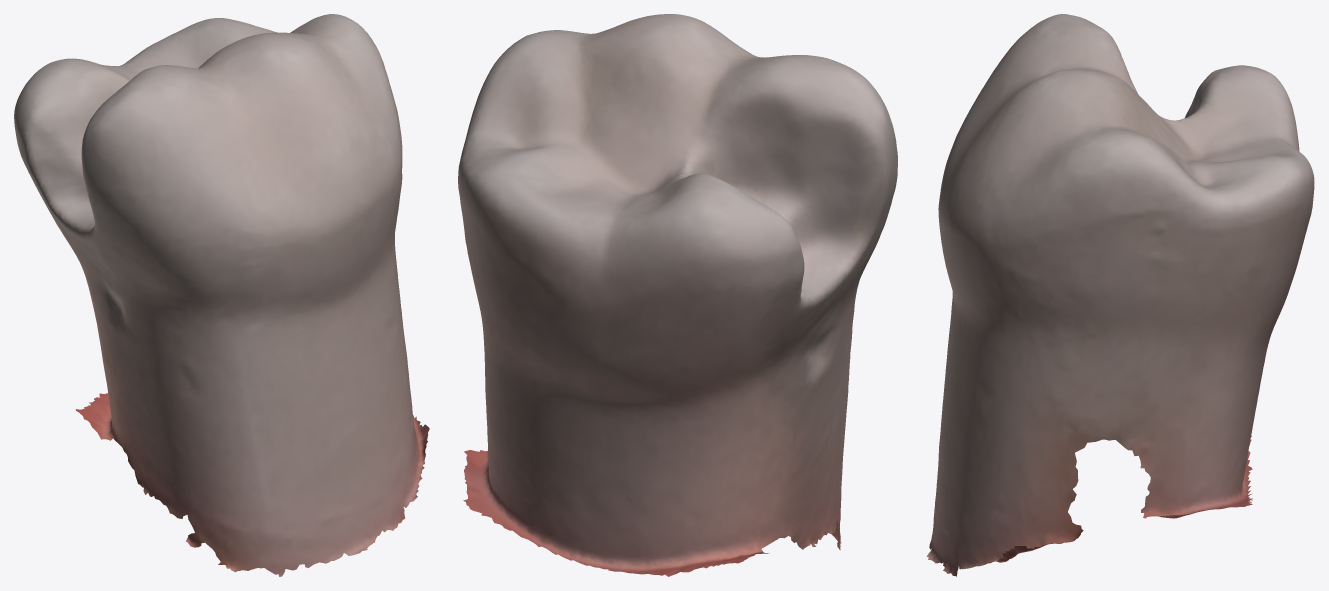
File: diente_textura.fbx
3 renders of one model, left to right at view 1: azimuth 30°, elevation 25°; view 2: azimuth 150°, elevation 25°; view 3: azimuth 270°, elevation 25°, orthographic. The views are drawn at different scales.
Parts seen in each view (by area): view 1: Diente_high; view 2: Diente_high; view 3: Diente_high.
Part boxes in pixels (x1=…): Diente_high: x1=14, y1=14, x2=429, y2=576; Diente_high: x1=458, y1=14, x2=897, y2=576; Diente_high: x1=926, y1=14, x2=1314, y2=576.
Size of the model in its own units: 94.59 by 134 by 97.52.
1 material, 1 textured.
